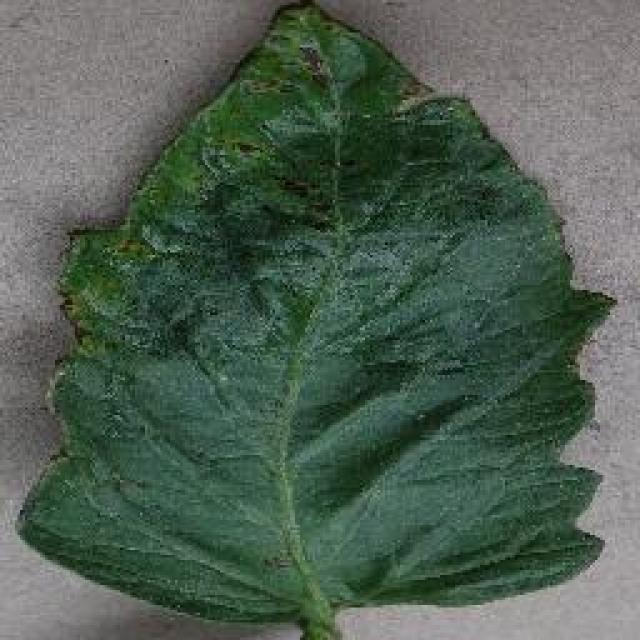Tomato bacterial spot leaf: (34, 7, 606, 625)
